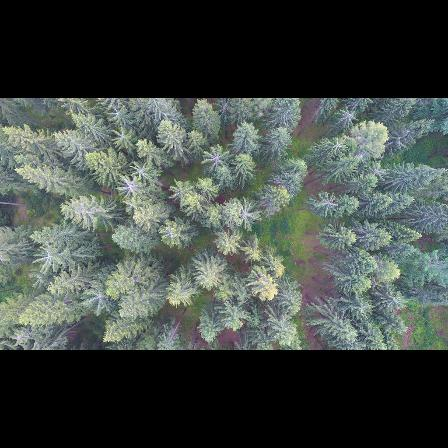Sick: (80, 284, 118, 317), (112, 176, 147, 204), (201, 145, 228, 172), (126, 159, 156, 182), (335, 106, 360, 130)
